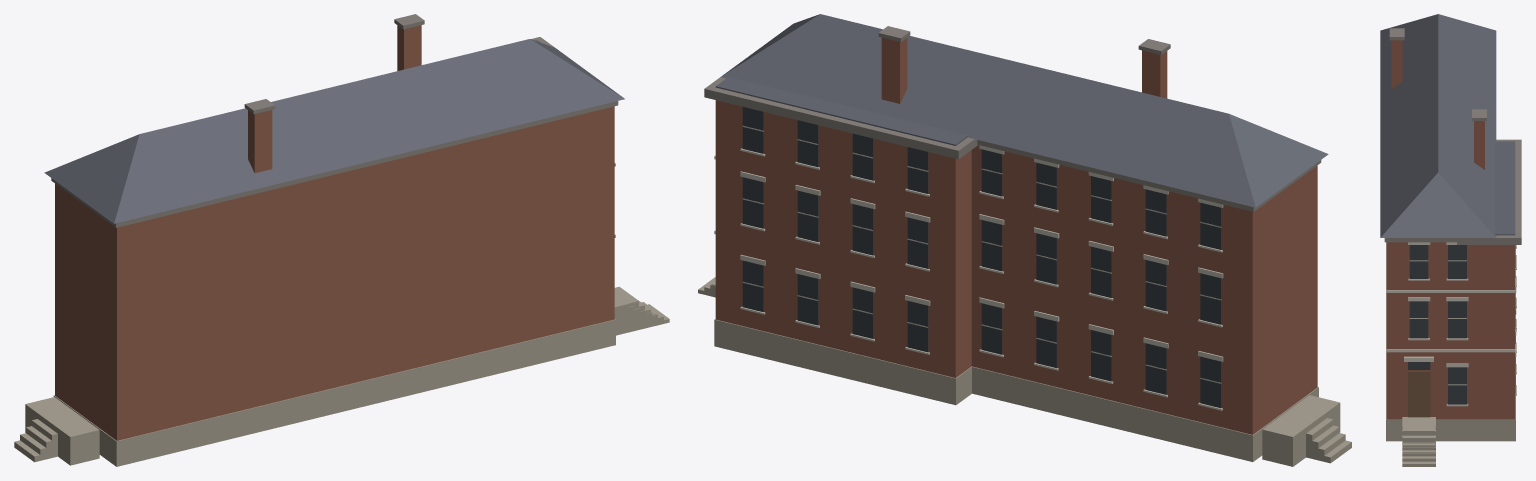
File: house_1809_indiana__draft_1904.glb
The picture shows the model from 3 angles, left to right: view 1: azimuth 30°, elevation 25°; view 2: azimuth 150°, elevation 25°; view 3: azimuth 270°, elevation 25°; orthographic projection. The views are drawn at different scales.
Parts seen in each view (by area): view 1: house_1809_indiana__draft_1904; view 2: house_1809_indiana__draft_1904; view 3: house_1809_indiana__draft_1904.
Boxes of the visible parts, <box> form: house_1809_indiana__draft_1904: <box>14,14,669,466</box>; house_1809_indiana__draft_1904: <box>698,14,1351,466</box>; house_1809_indiana__draft_1904: <box>1380,14,1521,466</box>.
Size of the model in its own units: 31.75 by 15.7 by 7.55.
